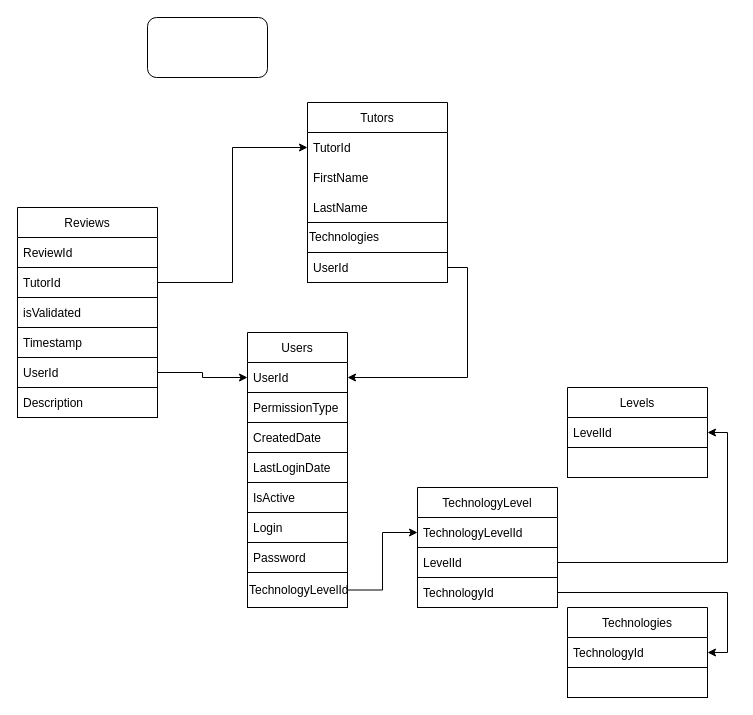
This 753x715 diagram has some shape labels left out. Here are the shapes that lost their labels. From the top down, the centre of each, then its label:
At (207,47): "Job++".
At (637,462): "LevelName".
At (637,682): "TechnologyName".
